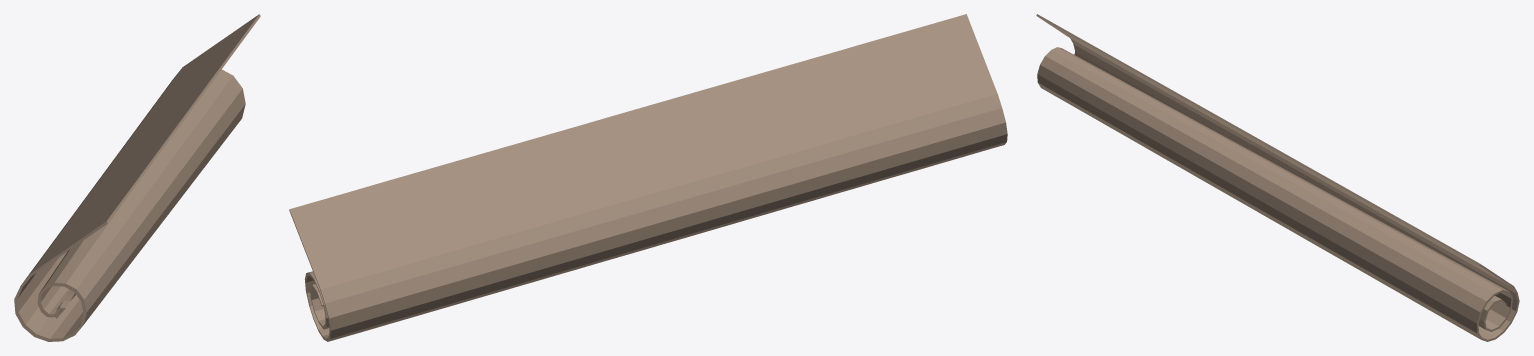
The model's file is Papyrus_Simple.glb.
The picture shows the model from 3 angles, left to right: view 1: azimuth 30°, elevation 25°; view 2: azimuth 150°, elevation 25°; view 3: azimuth 270°, elevation 25°; orthographic projection. The views are drawn at different scales.
Visible parts, largest first — view 1: papyrus_simple; view 2: papyrus_simple; view 3: papyrus_simple.
Part boxes in pixels (x1=…): papyrus_simple: x1=14, y1=14, x2=260, y2=341; papyrus_simple: x1=289, y1=14, x2=1007, y2=341; papyrus_simple: x1=1036, y1=14, x2=1519, y2=341.
Bounding box in the file's own units: 0.8788 × 0.3768 × 0.9334.
